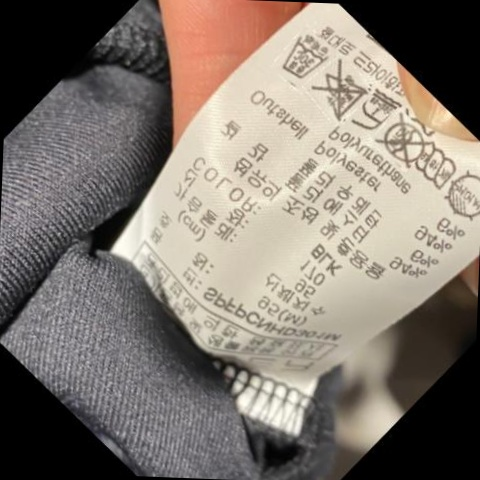DN_bleach: (304, 68, 364, 117)
DN_dry_clean: (382, 114, 424, 169)
dry_flat_in_shade: (445, 170, 480, 220)
hand_wash: (285, 30, 328, 79)
iron_low: (351, 87, 394, 131)
wring: (409, 142, 455, 190)
